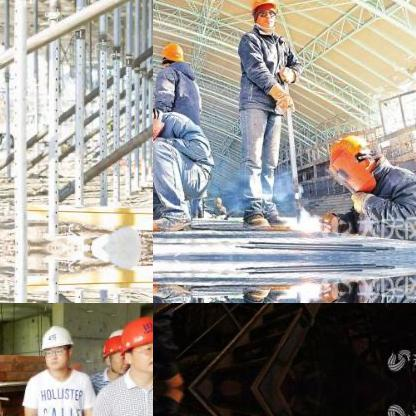Helmet: (118, 315, 152, 370), (38, 325, 74, 373), (329, 133, 369, 169), (102, 334, 132, 374), (247, 0, 283, 33), (158, 38, 184, 67)
